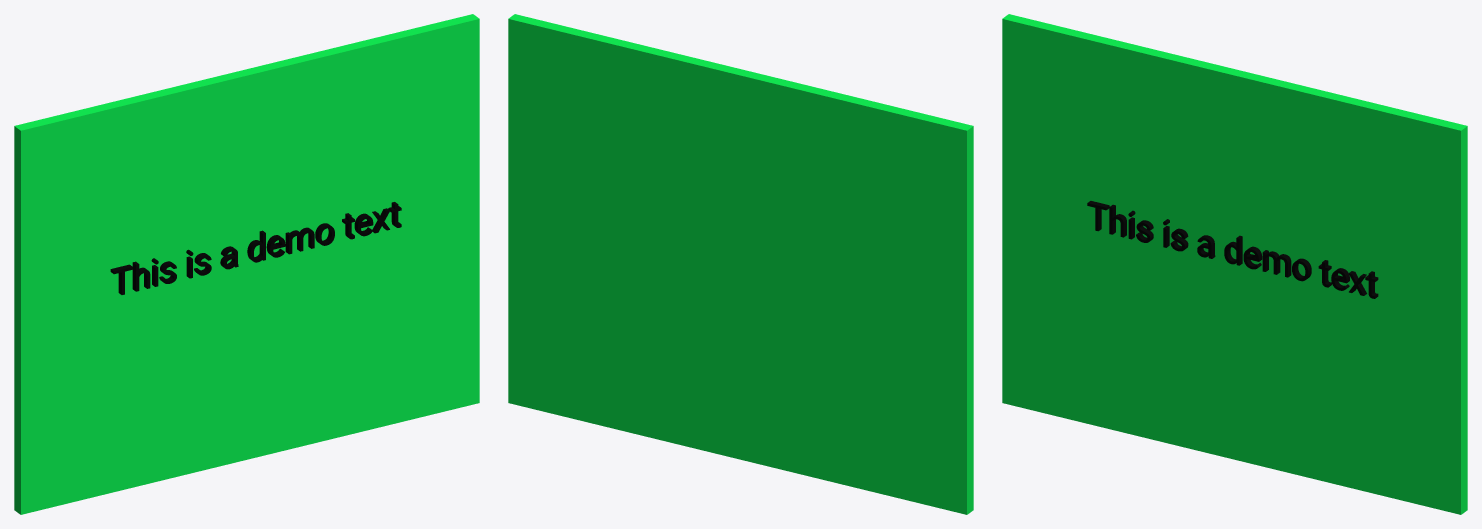
File: demo_model.glb
3 views of the same model, side by side, from view 1: azimuth 30°, elevation 25°; view 2: azimuth 150°, elevation 25°; view 3: azimuth 330°, elevation 25° (orthographic).
Parts seen in each view (by area): view 1: Rectangle, Text; view 2: Rectangle; view 3: Rectangle, Text.
Boxes of the visible parts, x1,y1,x2,y2 form: Rectangle: [14, 14, 479, 514]; Text: [110, 202, 401, 294]; Rectangle: [508, 14, 973, 514]; Rectangle: [1002, 14, 1467, 514]; Text: [1087, 201, 1378, 298].
Bounding box in the file's own units: 4 × 3.2 × 0.16.
